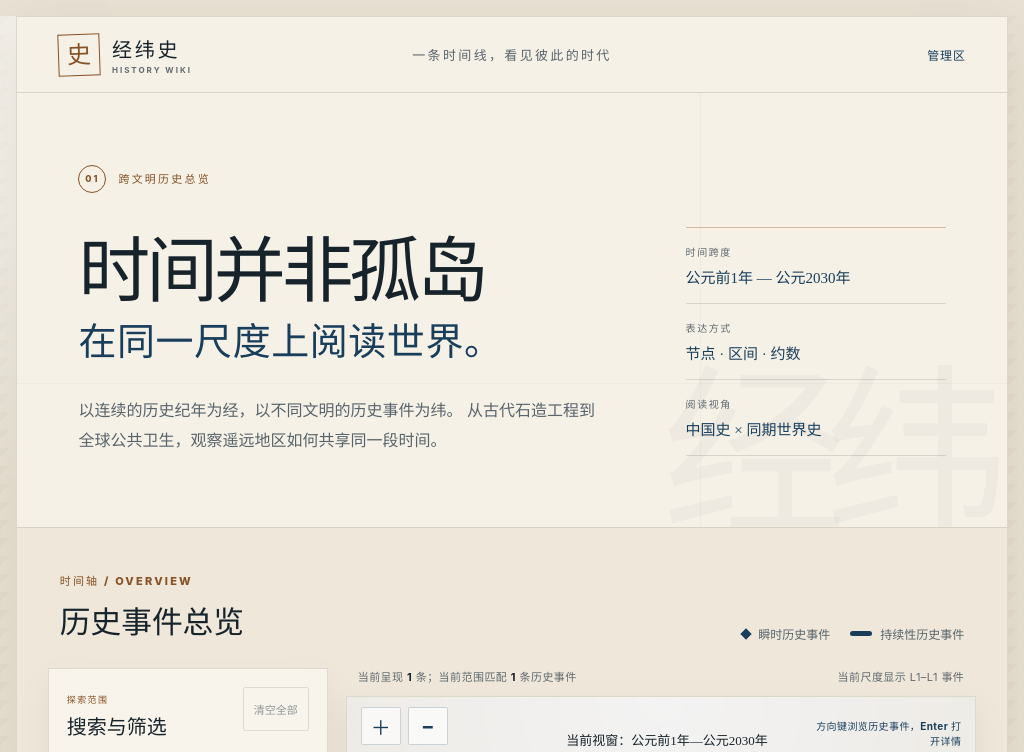
Test: 历史事件总览应用 › 快速连续改变视窗时取消旧请求并忽略其迟到响应
Click the button named "放大时间线" at (381, 726), box [361,707,401,745]
(page scrolled)
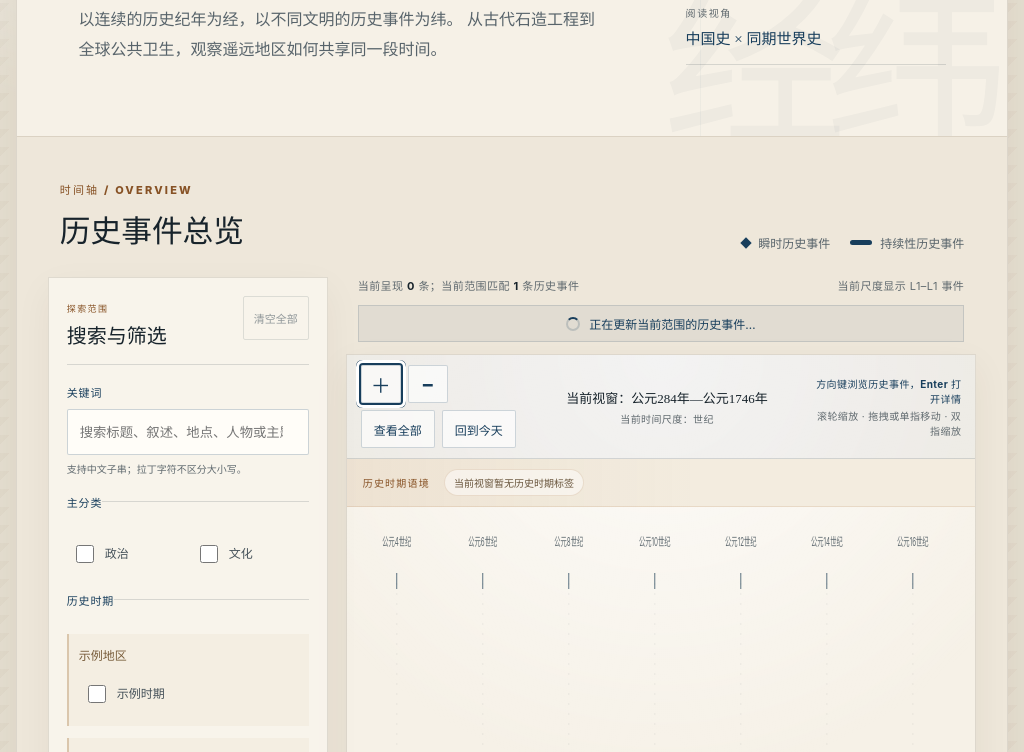
Click the button named "放大时间线" at (381, 384), box [361,365,401,403]
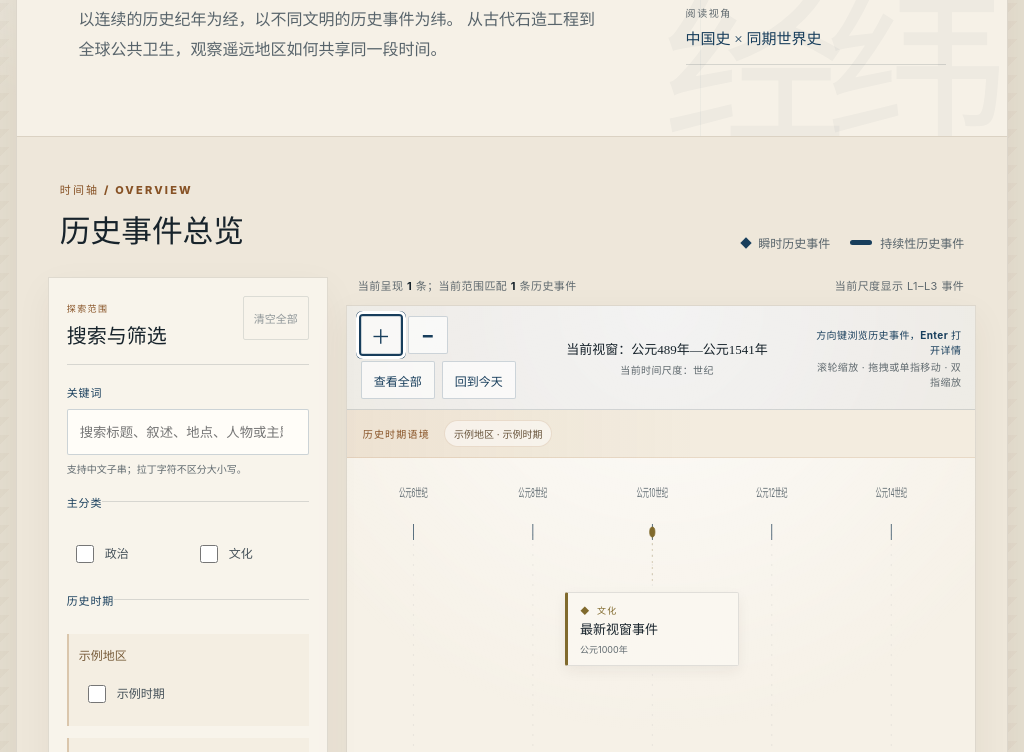
Expected: the text "最新视窗事件" is shown, [580,622,658,637]
